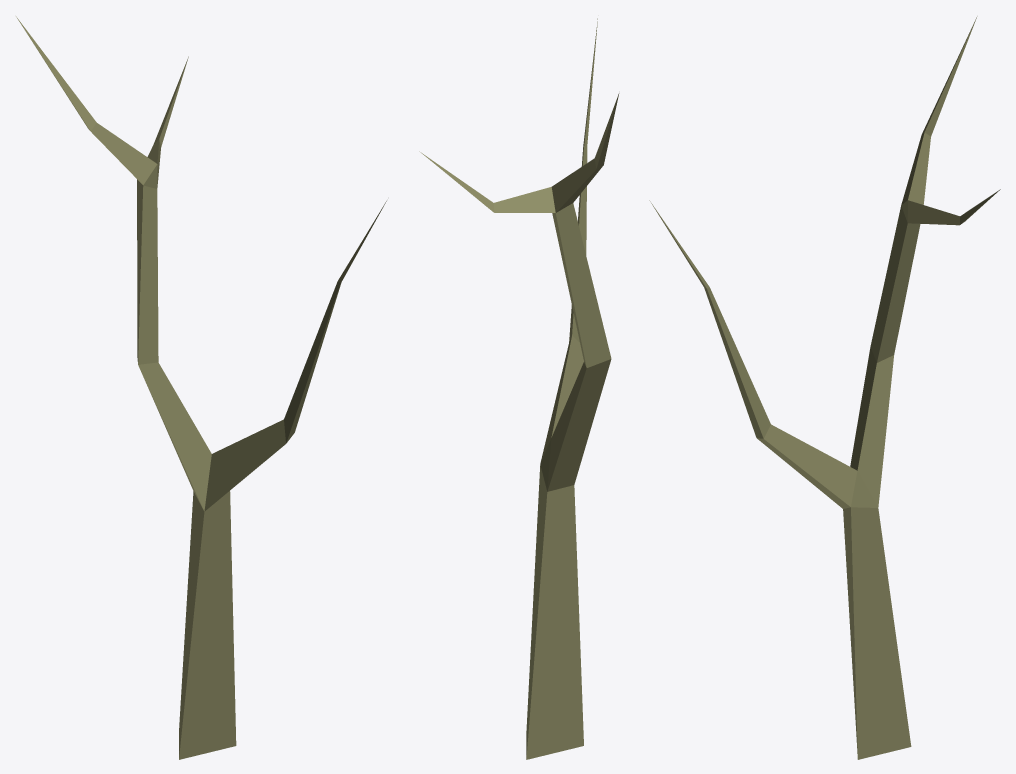
The model's file is Dead_Tree_s_BT_04.fbx.
The picture shows the model from 3 angles, left to right: view 1: azimuth 30°, elevation 25°; view 2: azimuth 150°, elevation 25°; view 3: azimuth 270°, elevation 25°; orthographic projection. The views are drawn at different scales.
Parts seen in each view (by area): view 1: Dead_Tree_s_BT_04; view 2: Dead_Tree_s_BT_04; view 3: Dead_Tree_s_BT_04.
Part boxes in pixels (x1,y1,x2,y2): Dead_Tree_s_BT_04: (16, 16, 386, 759); Dead_Tree_s_BT_04: (419, 18, 619, 759); Dead_Tree_s_BT_04: (649, 16, 1000, 759).
Size of the model in its own units: 71.78 by 250 by 119.
